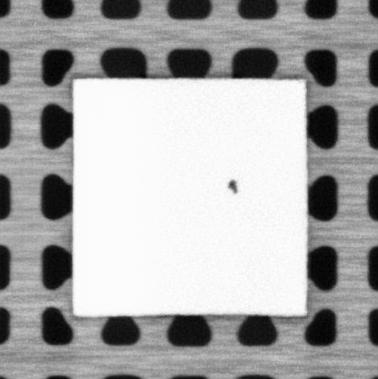DIE_INK: (226, 178, 240, 195)
